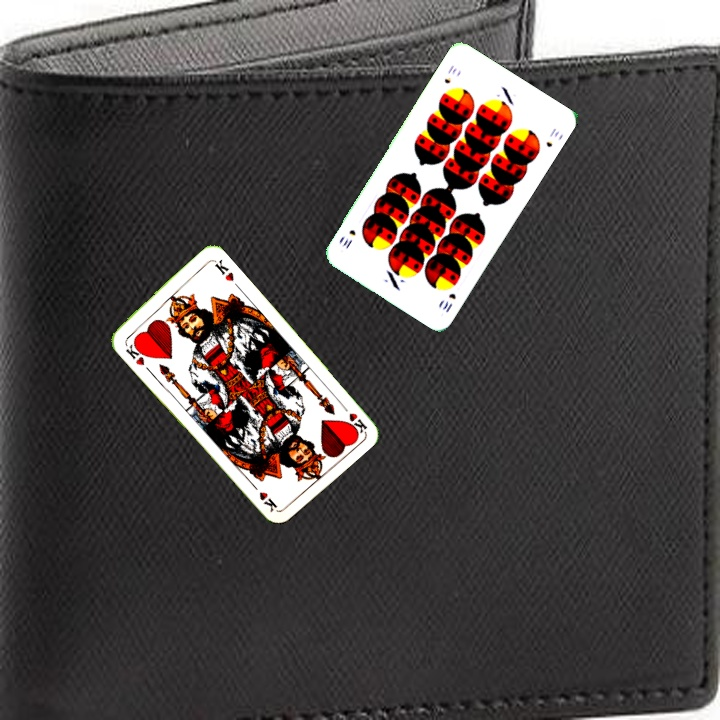HK: (336, 399, 369, 436), (121, 337, 150, 368)
S10: (438, 289, 459, 315), (440, 61, 459, 86)
